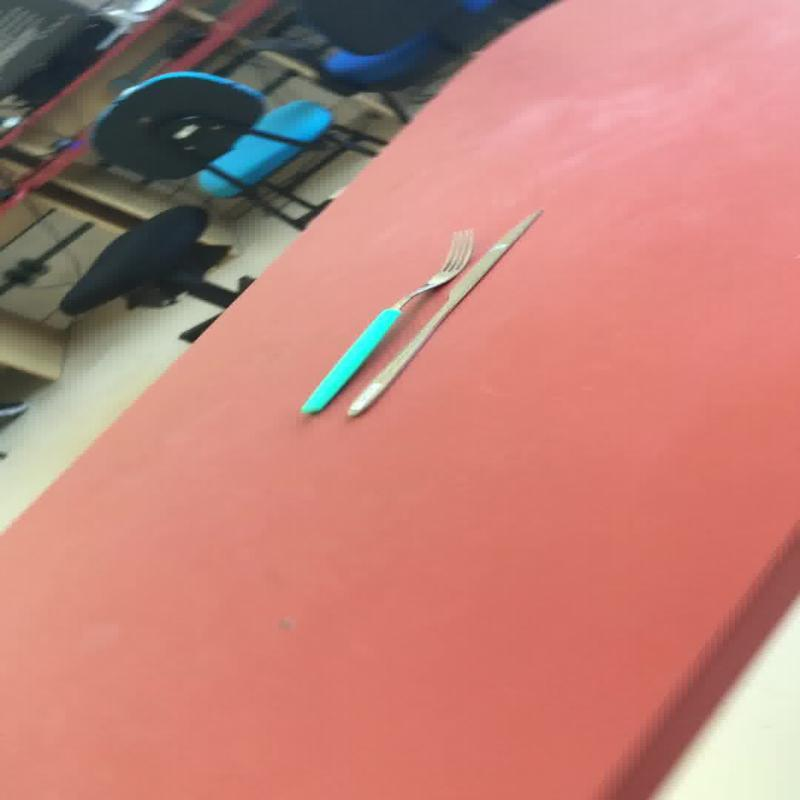fork: (297, 227, 474, 415)
knife: (343, 207, 543, 418)
